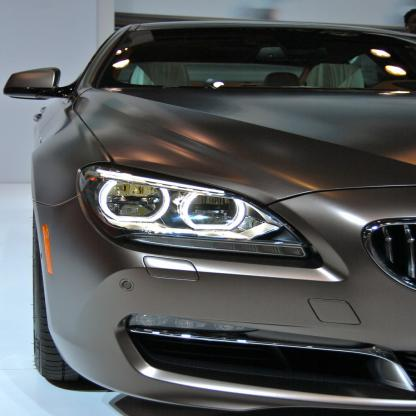Car: (3, 20, 415, 415)
